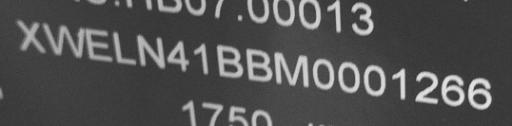letter: (43, 18, 85, 59), (272, 48, 312, 90), (132, 30, 166, 72), (240, 43, 274, 83), (213, 40, 245, 82), (9, 17, 45, 54), (332, 57, 362, 97), (407, 68, 439, 105), (84, 23, 112, 65), (186, 36, 214, 78), (309, 55, 337, 97), (358, 62, 390, 98), (464, 74, 496, 109), (384, 63, 412, 102), (164, 36, 192, 74), (438, 72, 466, 109), (110, 29, 136, 67)
